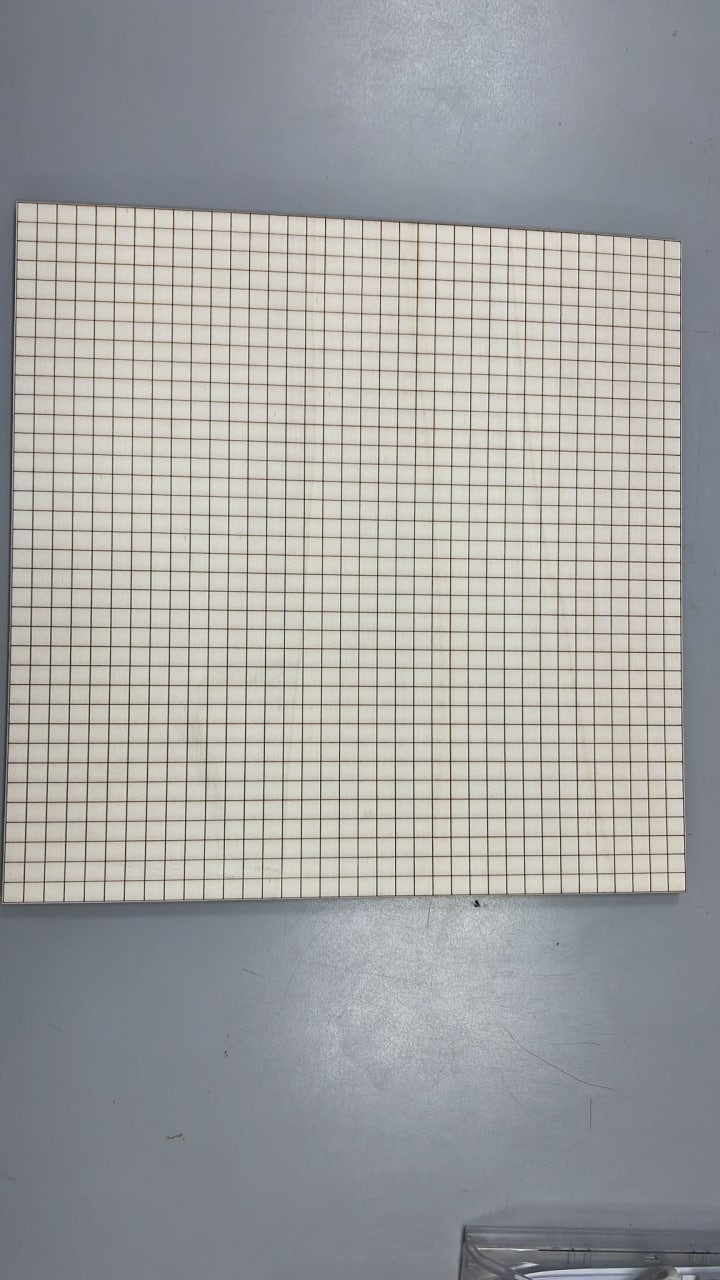grid: (3, 196, 694, 906)
